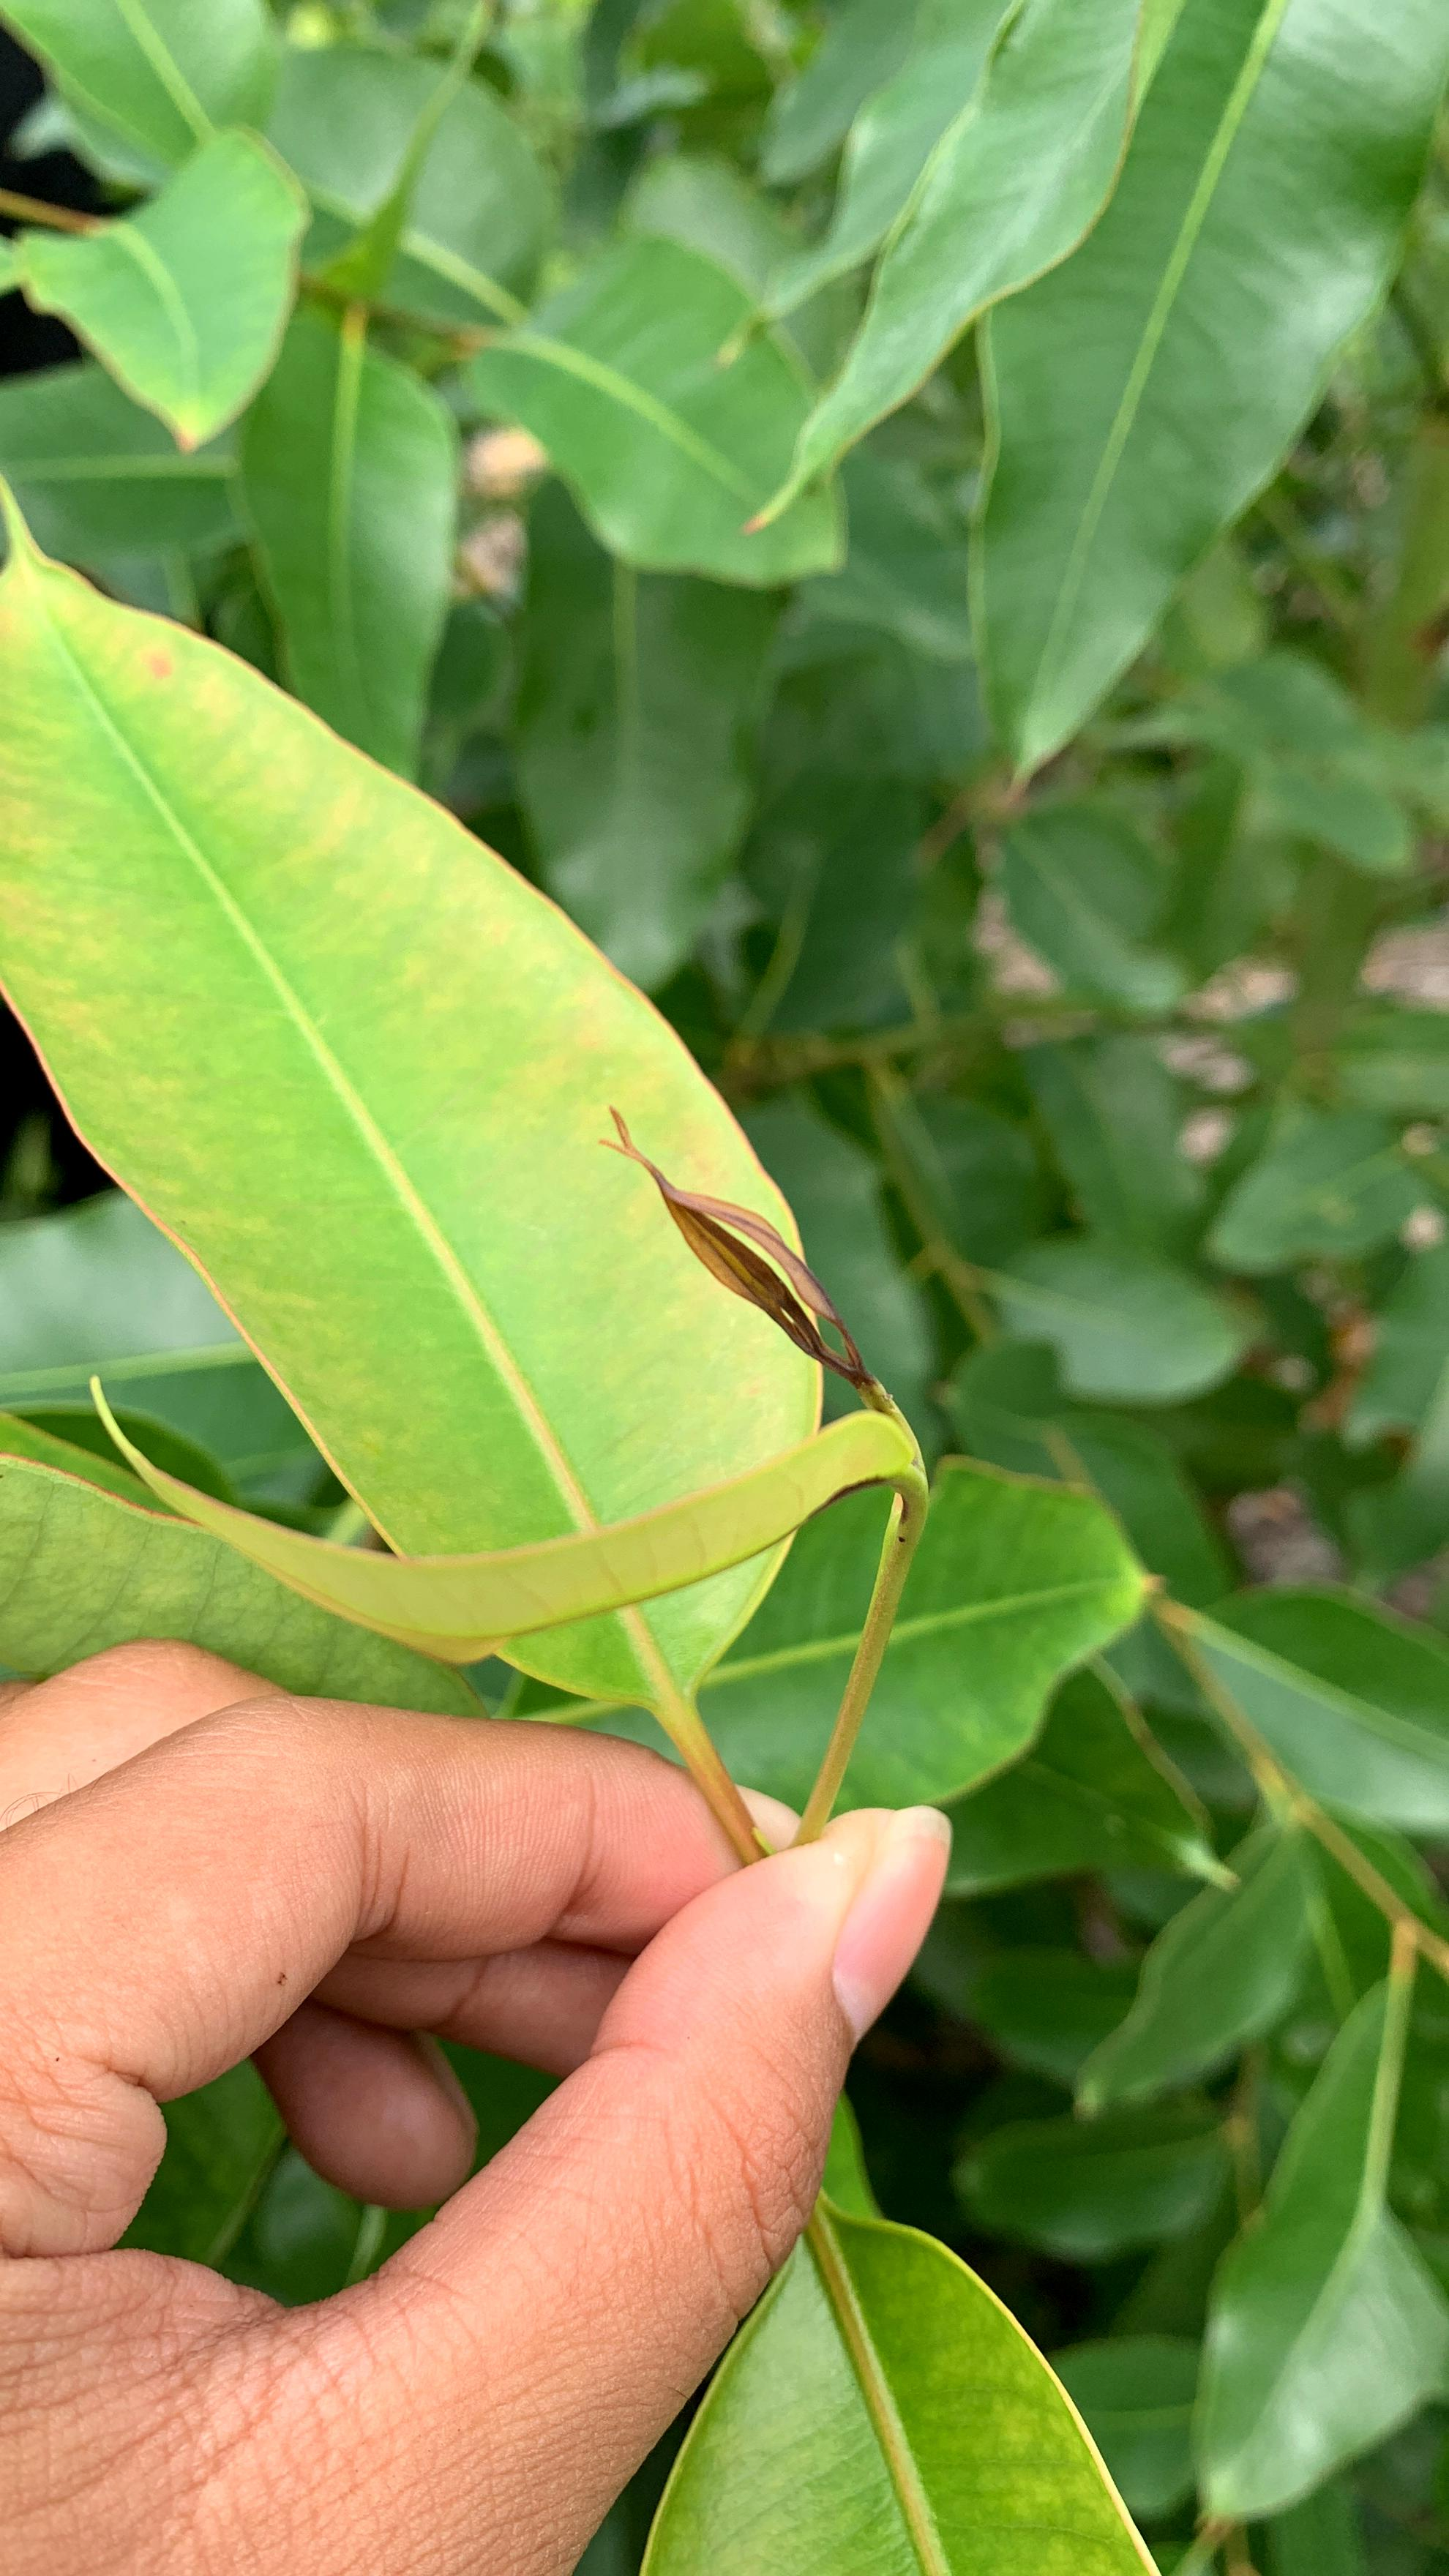Helopeltis-Withered Sprout: (580, 1063, 962, 1523)
